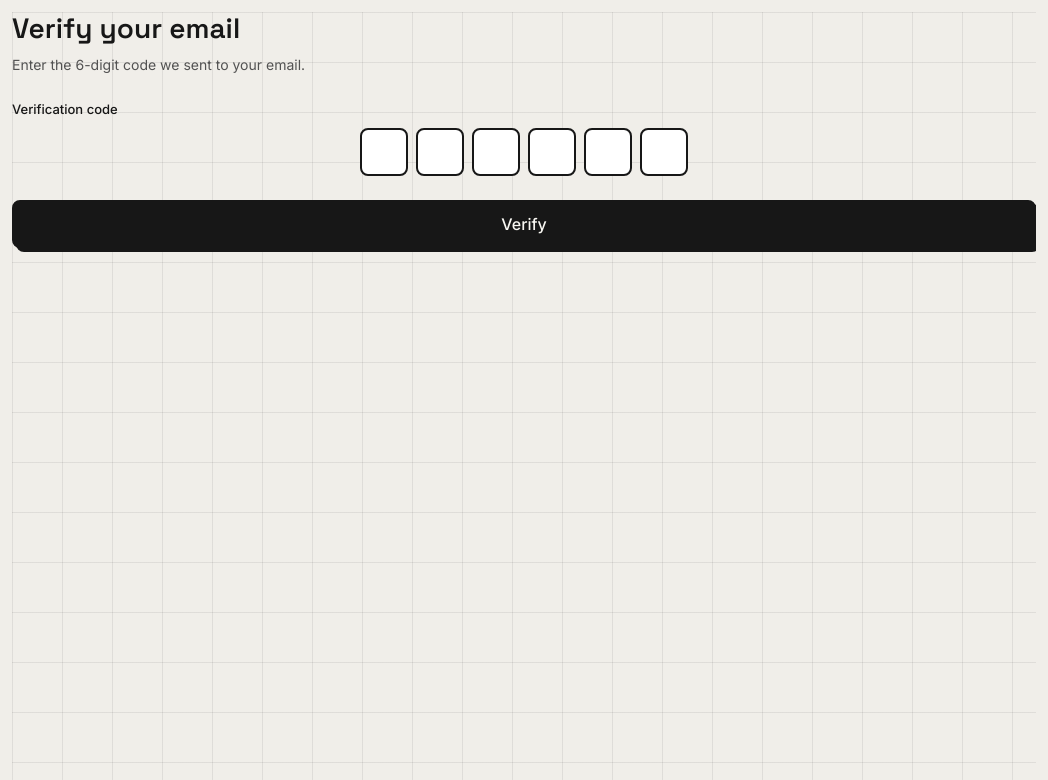
Test: OTPVerification › moves forward as digits are typed and ignores non-digits
Click the field named "Digit 1 of 6" at {"x": 384, "y": 152}, box [362,130,406,174]
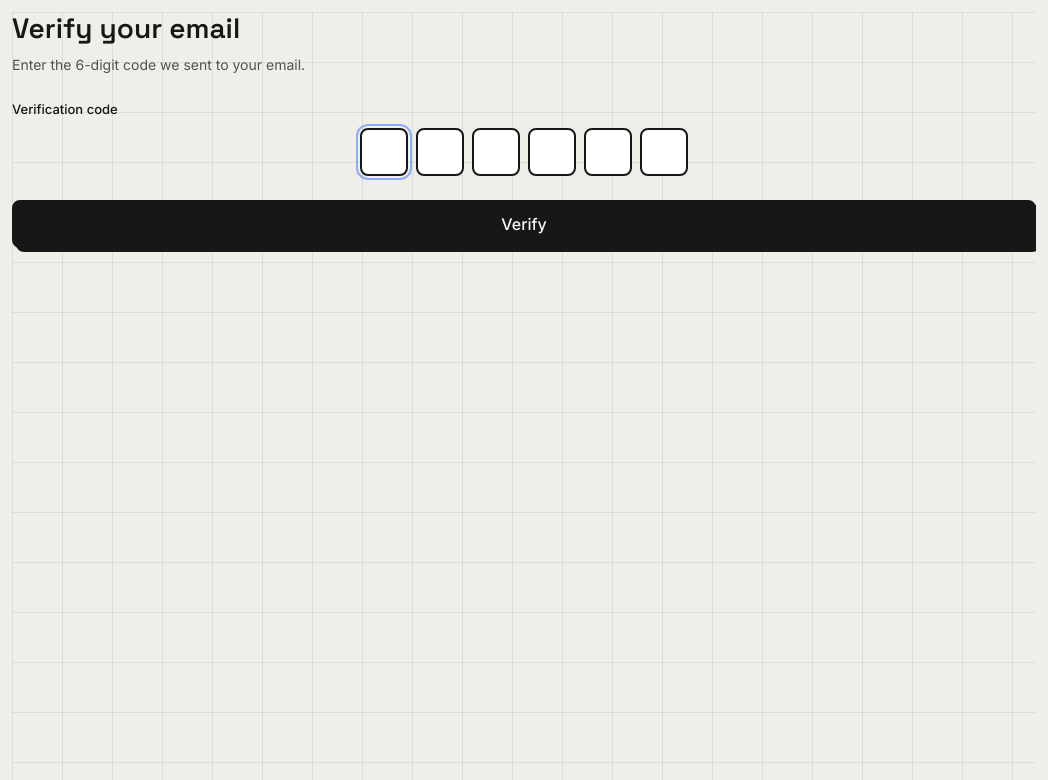
Type keys "1a2"
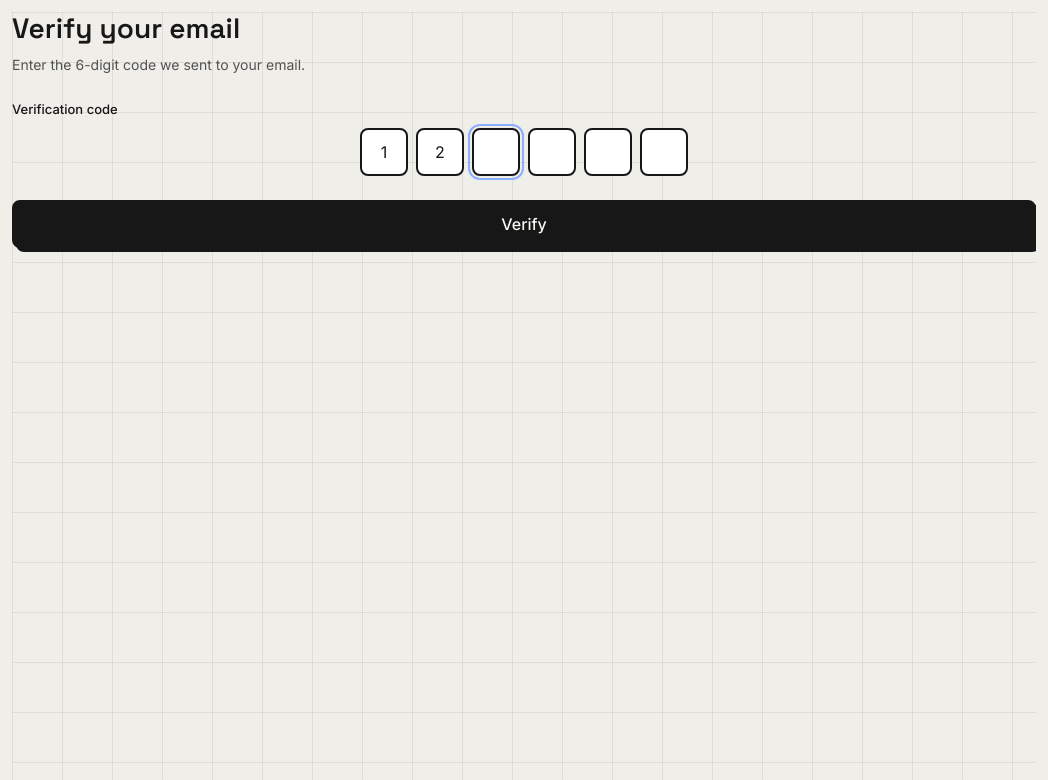
Expected: the field named "Digit 1 of 6" holds "1", [362,130,406,174]
Expected: the field named "Digit 2 of 6" holds "2", [418,130,462,174]
